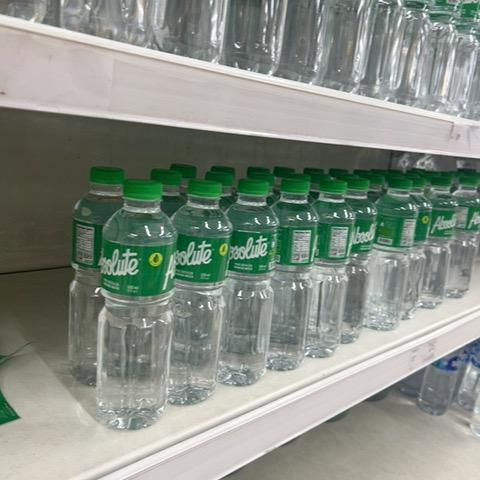Bottled Water: (97, 174, 180, 435), (65, 163, 133, 387), (213, 176, 280, 394), (171, 180, 235, 407), (303, 173, 355, 361), (266, 177, 315, 374), (376, 176, 417, 331), (343, 173, 378, 344), (421, 176, 459, 311)
